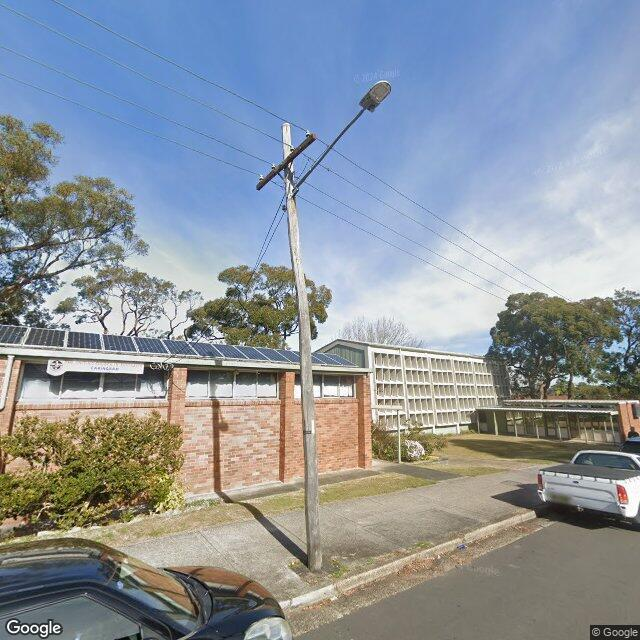crossarm: (255, 128, 318, 191)
streetlight: (288, 81, 392, 198)
timber-pole: (282, 122, 322, 572)
